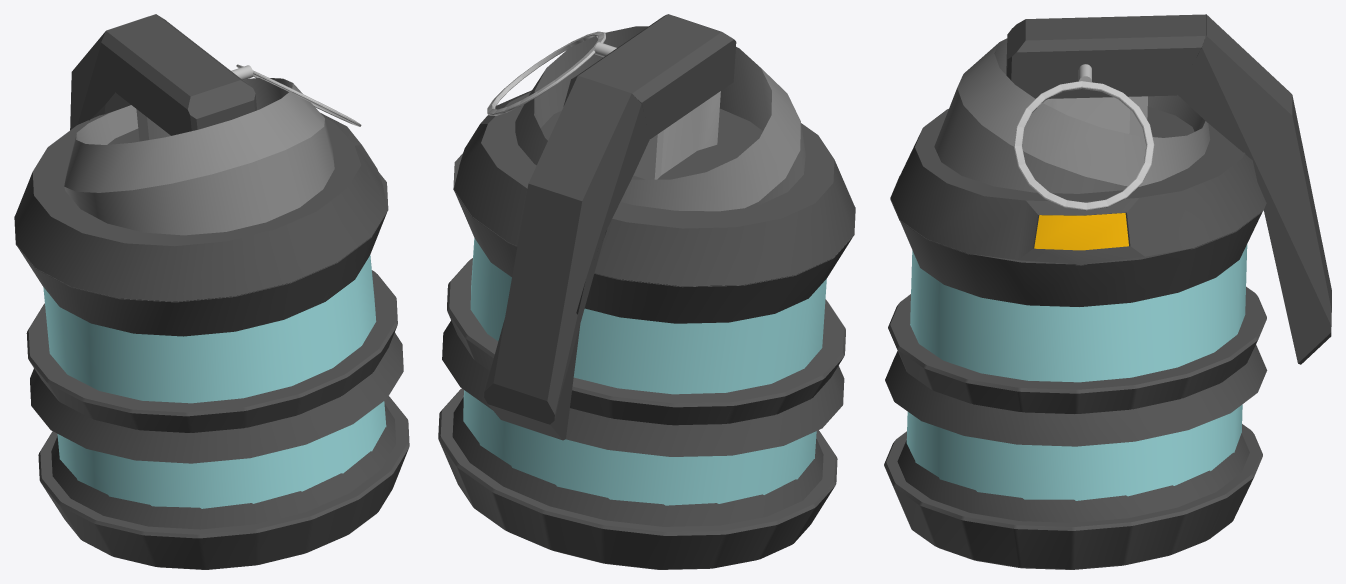
File: woodlp.fbx
3 views of the same model, side by side, from view 1: azimuth 30°, elevation 25°; view 2: azimuth 150°, elevation 25°; view 3: azimuth 270°, elevation 25° (orthographic). The views are drawn at different scales.
Visible parts, largest first — view 1: pasted__pasted__pCube2; view 2: pasted__pasted__pCube2; view 3: pasted__pasted__pCube2.
Part boxes in pixels (<box>): pasted__pasted__pCube2: <box>14,14,409,569</box>; pasted__pasted__pCube2: <box>438,14,855,569</box>; pasted__pasted__pCube2: <box>884,14,1331,569</box>.
Bounding box in the file's own units: 2134 × 2618 × 2205.
